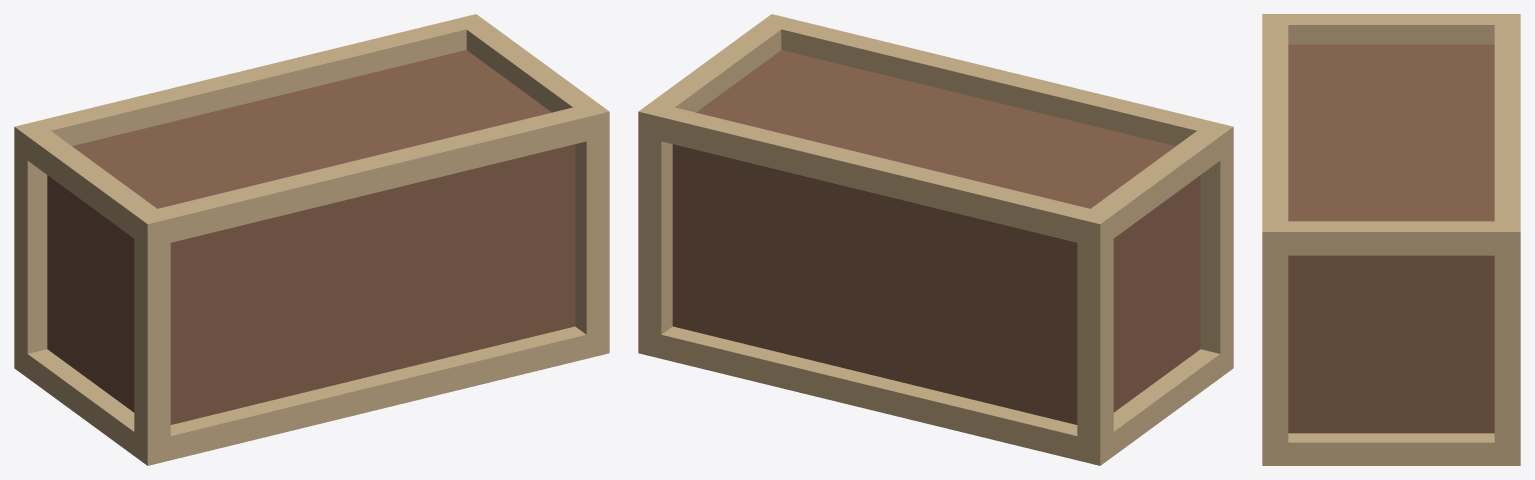
The model's file is Crate4.fbx.
The picture shows the model from 3 angles, left to right: view 1: azimuth 30°, elevation 25°; view 2: azimuth 150°, elevation 25°; view 3: azimuth 270°, elevation 25°; orthographic projection. The views are drawn at different scales.
Parts seen in each view (by area): view 1: Cube; view 2: Cube; view 3: Cube.
Part boxes in pixels (x1=…): Cube: x1=14, y1=14, x2=609, y2=465; Cube: x1=638, y1=14, x2=1233, y2=465; Cube: x1=1262, y1=14, x2=1520, y2=465.
Bounding box in the file's own units: 2 × 1 × 1.
